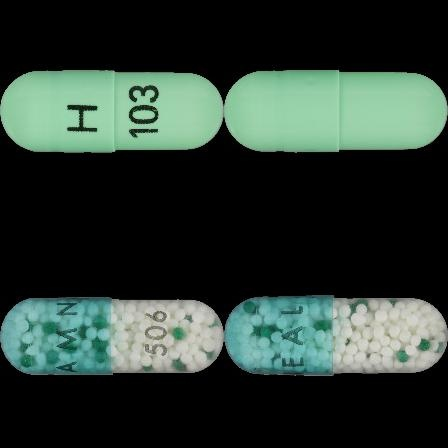66267-119: (0, 0, 224, 224)
